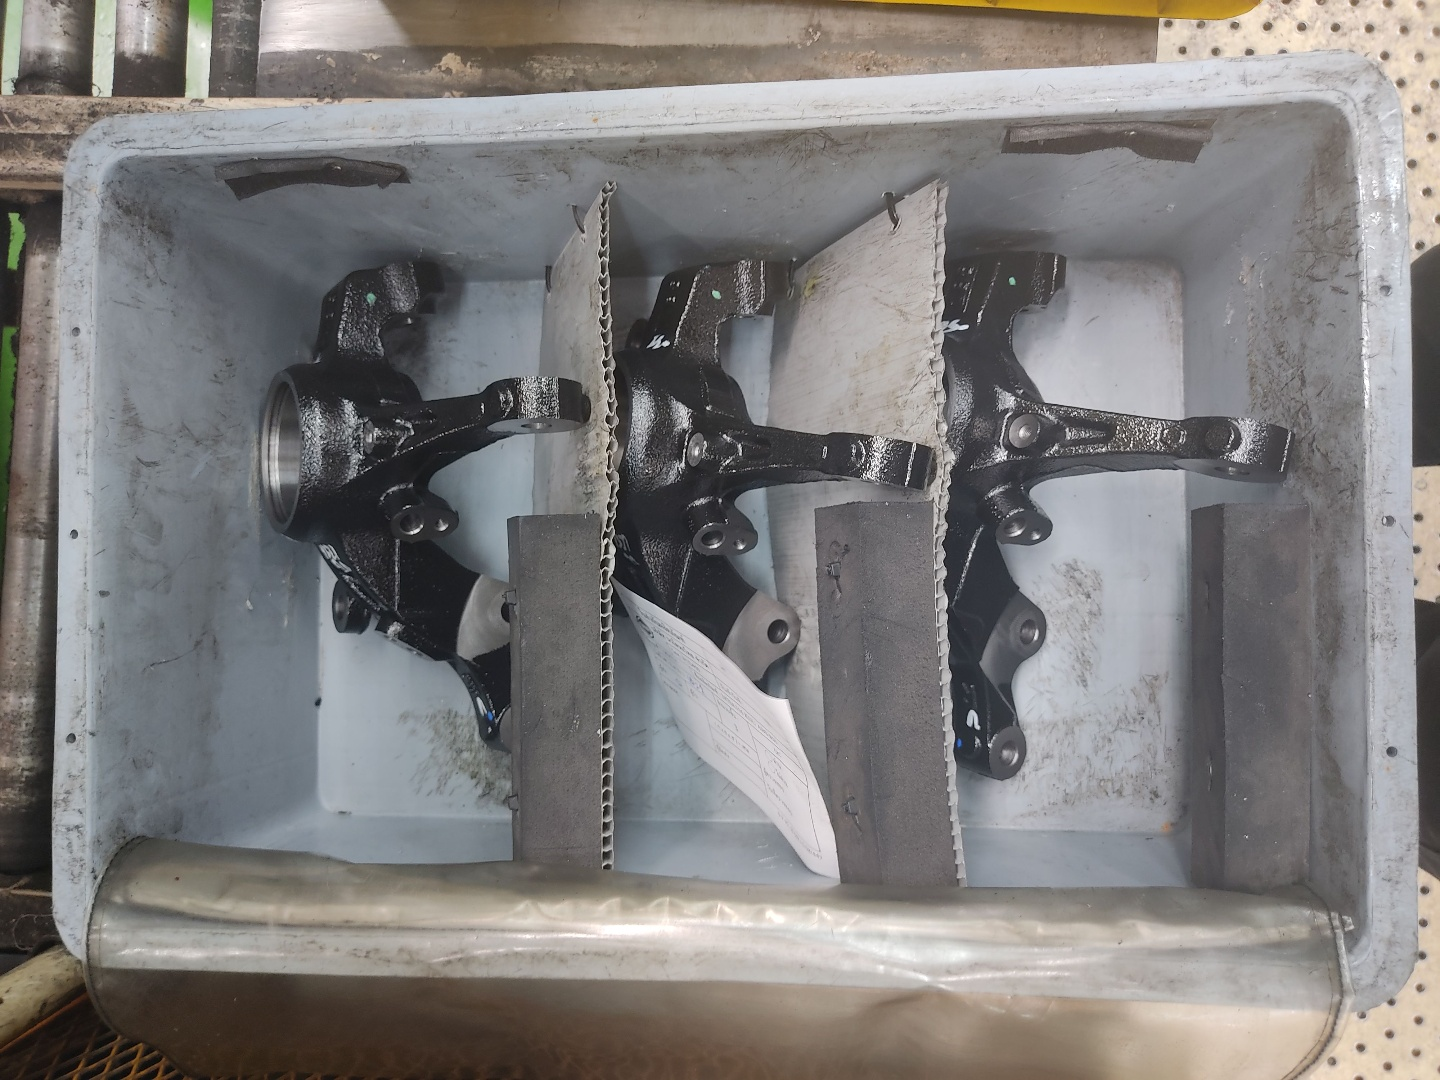abs-rh: (937, 245, 1299, 793), (253, 246, 599, 766), (605, 248, 939, 768)
